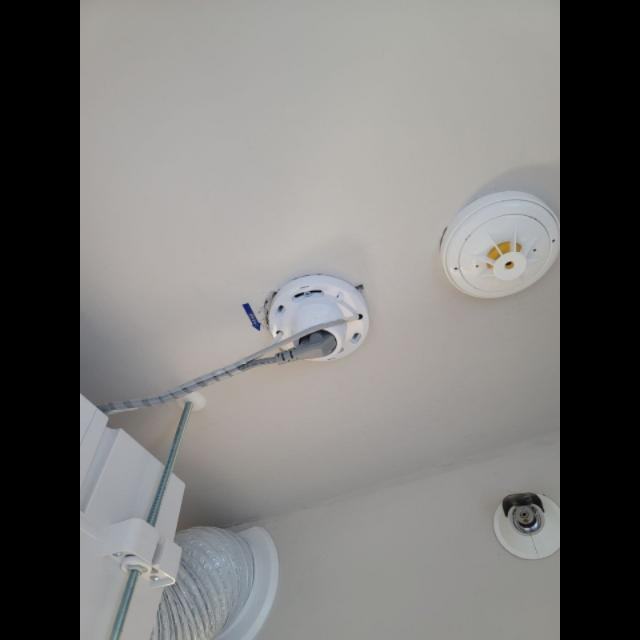Smoke-Detector: (440, 190, 560, 298)
